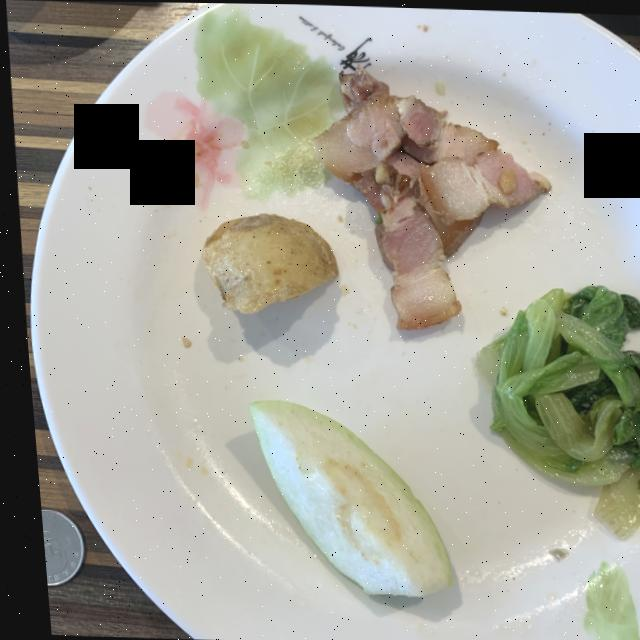coin: (33, 509, 74, 586)
fried potato: (198, 212, 334, 312)
grilled pork: (309, 67, 546, 327)
guava -sliced-: (241, 399, 442, 595)
mustard greens: (473, 284, 640, 536)
